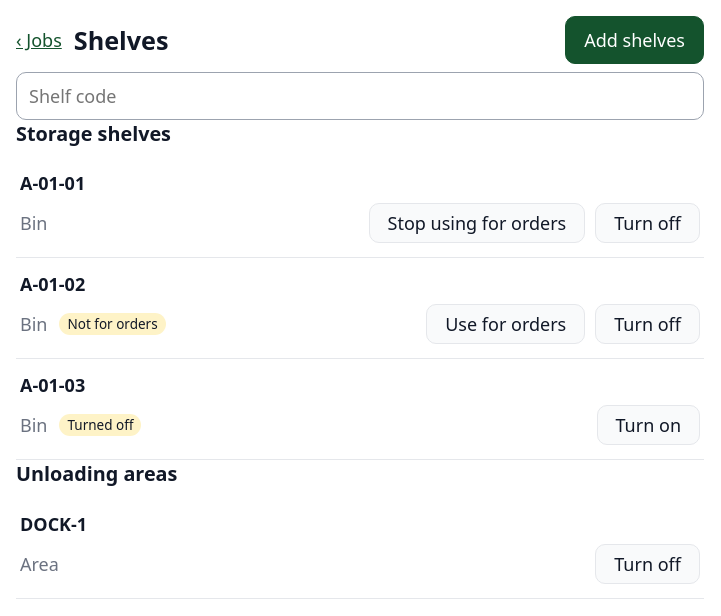
Test: shelves screen › filters by code
This screenshot has width=721, height=616.
Expected: the text "DOCK-1" is shown, 20,512 -> 87,536
Type "dock" into the field named "Find a shelf" at coordinates (360, 96), box 16,72 -> 704,120
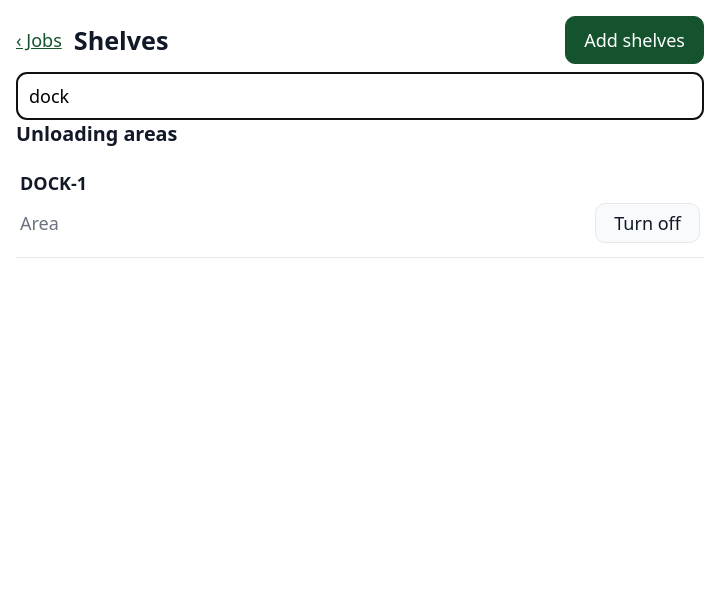
Expected: the text "DOCK-1" is shown, 20,171 -> 87,195
Now the text "A-01-01" is gone
